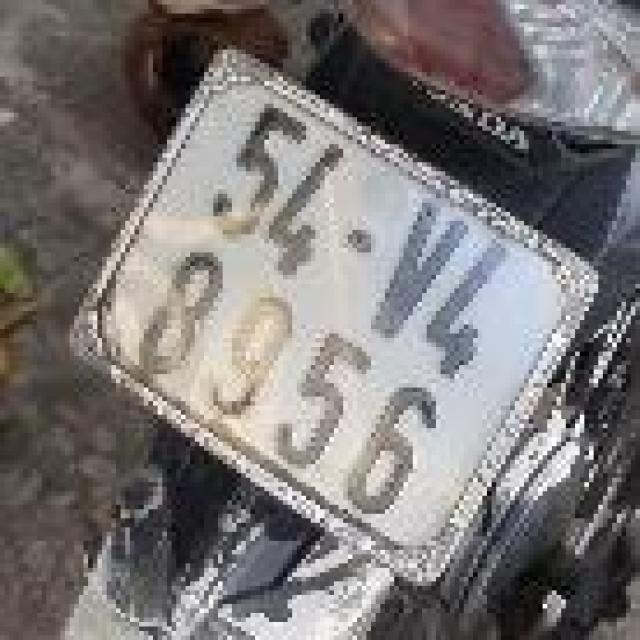4: (227, 120, 373, 306), (406, 206, 541, 401)
5: (185, 73, 338, 261), (267, 304, 394, 493)
6: (314, 356, 464, 536)
8: (121, 231, 251, 395)
9: (185, 261, 314, 446)
V: (344, 178, 489, 367)
